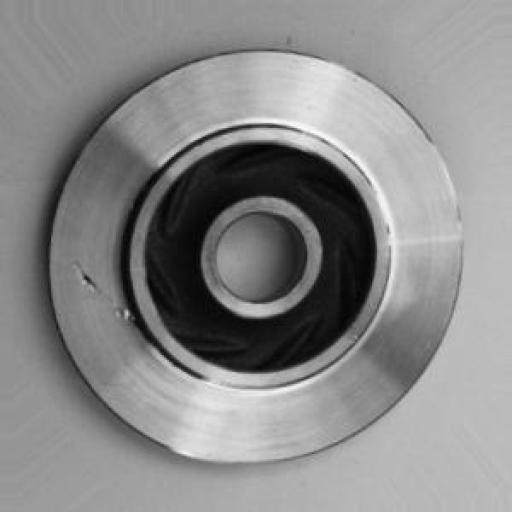defect: (49, 232, 176, 353)
